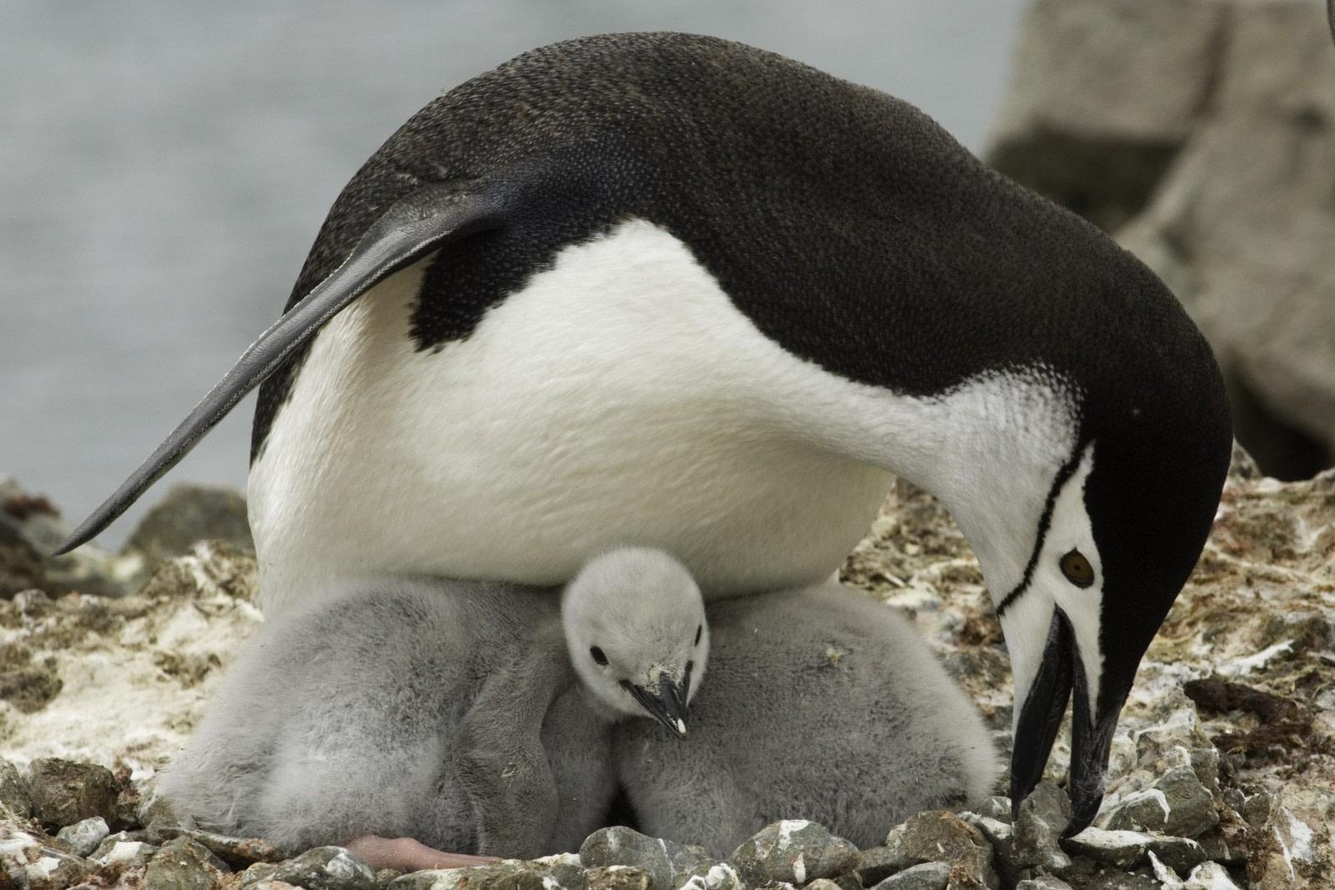Penguin: (55, 32, 1237, 840), (159, 547, 709, 857), (610, 581, 1000, 854)
